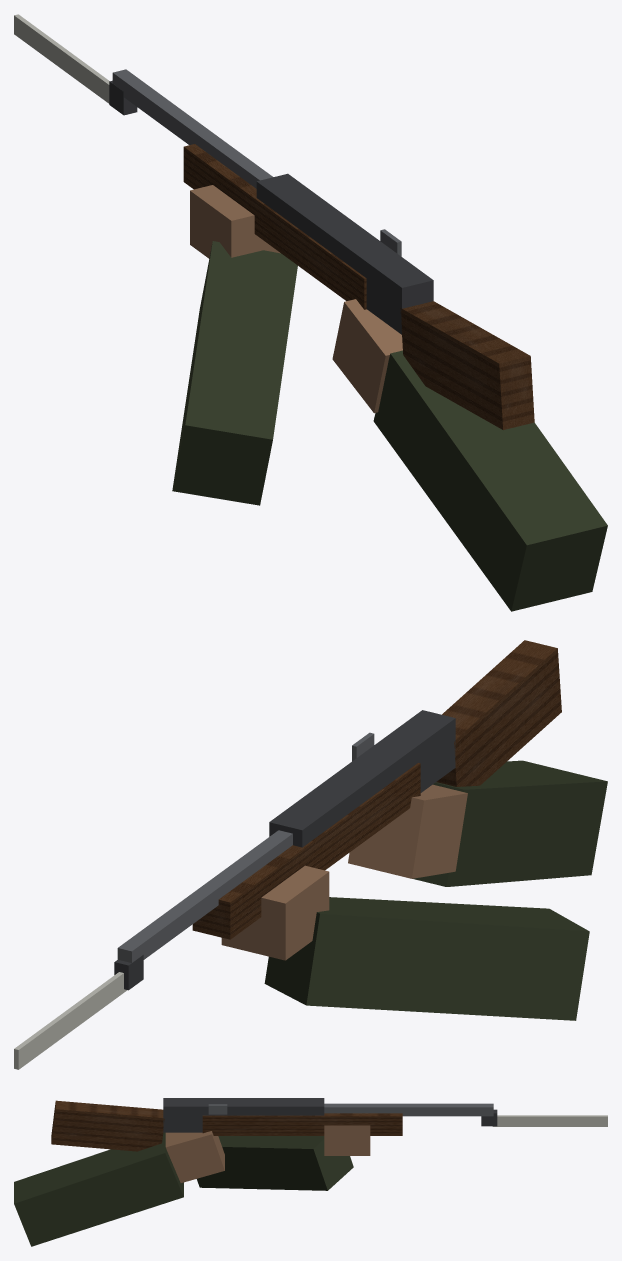
Rendered from bayonet.glb.
The picture shows the model from 3 angles, top to bottom: view 1: azimuth 30°, elevation 25°; view 2: azimuth 150°, elevation 25°; view 3: azimuth 270°, elevation 25°; orthographic projection. The views are drawn at different scales.
Visible parts, largest first — view 1: bayonet_5, bayonet_2, bayonet_0, bayonet_4, bayonet_1, bayonet_3; view 2: bayonet_5, bayonet_2, bayonet_4, bayonet_0, bayonet_1, bayonet_3; view 3: bayonet_5, bayonet_2, bayonet_4, bayonet_0, bayonet_1, bayonet_3.
Part boxes in pixels (x1=…): bayonet_5: x1=172, y1=241, x2=607, y2=611; bayonet_2: x1=183, y1=144, x2=534, y2=429; bayonet_0: x1=109, y1=80, x2=433, y2=334; bayonet_4: x1=190, y1=185, x2=402, y2=413; bayonet_1: x1=112, y1=69, x2=401, y2=256; bayonet_3: x1=14, y1=14, x2=109, y2=103; bayonet_5: x1=264, y1=760, x2=607, y2=1020; bayonet_2: x1=192, y1=640, x2=561, y2=939; bayonet_4: x1=221, y1=784, x2=467, y2=960; bayonet_0: x1=114, y1=710, x2=455, y2=990; bayonet_1: x1=117, y1=732, x2=374, y2=962; bayonet_3: x1=14, y1=972, x2=127, y2=1069; bayonet_5: x1=14, y1=1132, x2=353, y2=1246; bayonet_2: x1=51, y1=1100, x2=402, y2=1151; bayonet_4: x1=165, y1=1125, x2=370, y2=1182; bayonet_0: x1=163, y1=1098, x2=497, y2=1132; bayonet_1: x1=208, y1=1103, x2=493, y2=1116; bayonet_3: x1=492, y1=1115, x2=607, y2=1126.
Size of the model in its own units: 0.4821 by 0.4555 by 1.84.
Materials: 6 (1 with a texture image).
